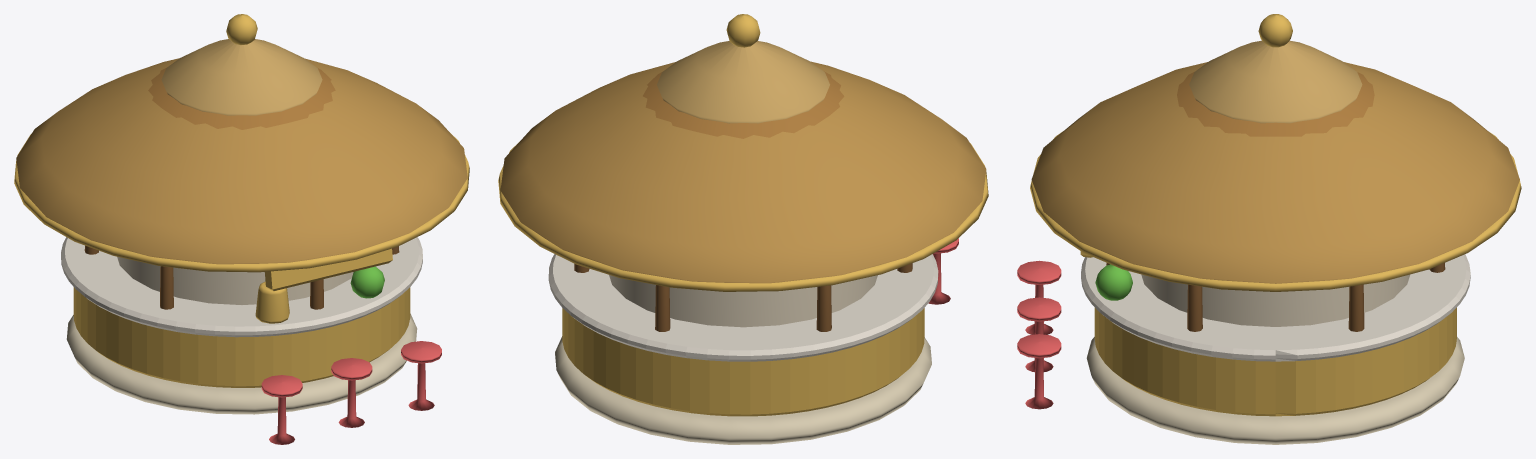
The model's file is quiosque_0.glb.
The picture shows the model from 3 angles, left to right: view 1: azimuth 30°, elevation 25°; view 2: azimuth 150°, elevation 25°; view 3: azimuth 270°, elevation 25°; orthographic projection. The views are drawn at different scales.
Parts seen in each view (by area): view 1: quiosque_0_corpo; view 2: quiosque_0_corpo; view 3: quiosque_0_corpo.
Part boxes in pixels (bbox=[...]): quiosque_0_corpo: bbox=[14, 14, 469, 444]; quiosque_0_corpo: bbox=[498, 14, 988, 444]; quiosque_0_corpo: bbox=[1017, 14, 1521, 444].
Bounding box in the file's own units: 6.24 × 4.92 × 6.4.
